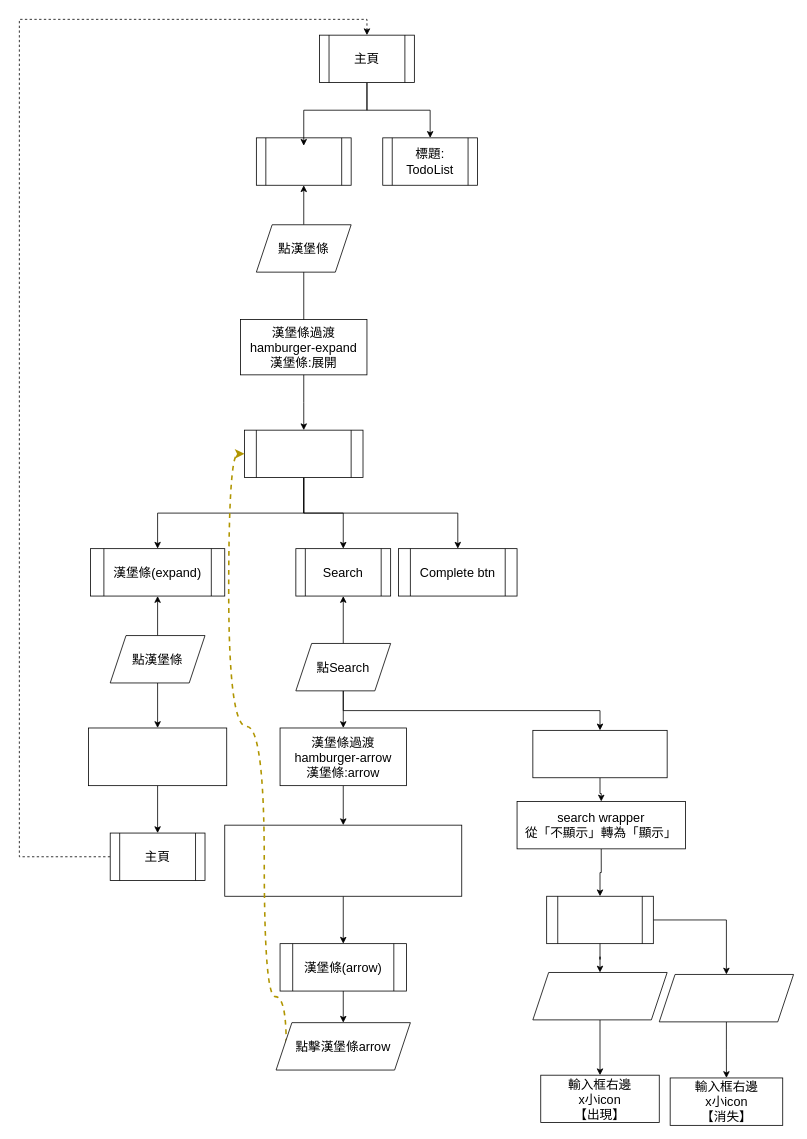
Image size: 807x1139. Some labels were removed from this diagram. Here are the shapes that lost their labels. From the top down, the centre of each, then its label:
the point at 303,161: 漢堡條(collpase)
the point at 303,453: 按鈕選單
the point at 157,756: 漢堡條過渡 hamburger-collpase 漢堡條:收合
the point at 599,754: 隱藏search-btn 隱藏completed-btn
the point at 343,860: 轉換漢堡條功能: 1.刪除collpase與expand的EventListener 2.新增一個使其click時回到按鈕選單的EventListener
the point at 599,919: search輸入框
the point at 599,996: focus輸入框 並輸入第一個字
the point at 726,998: focus輸入框 字刪光
